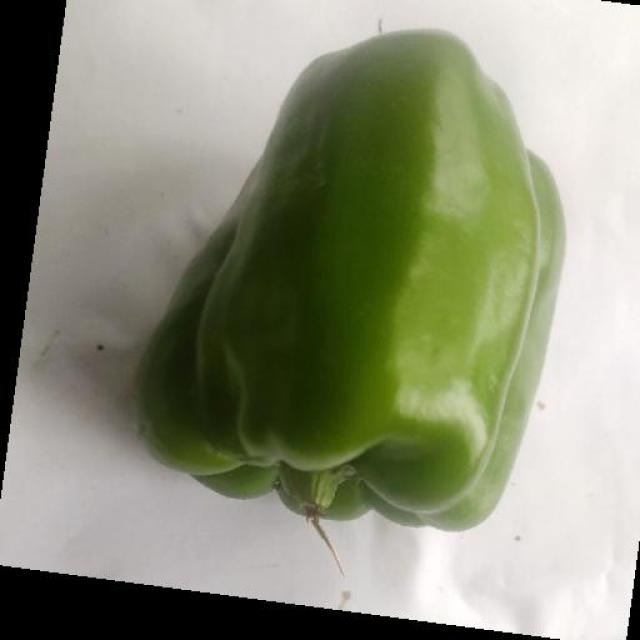Fresh_Capsicum: (195, 14, 525, 531)
